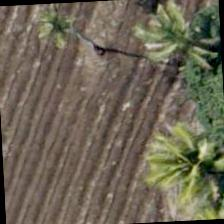Kelapa_Sawit: (132, 0, 223, 90), (10, 0, 104, 74)
